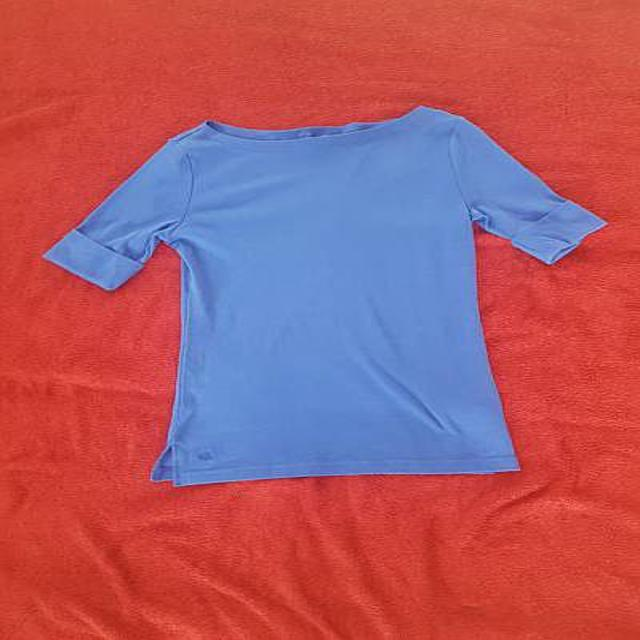T_SHIRT: (39, 103, 617, 494)
